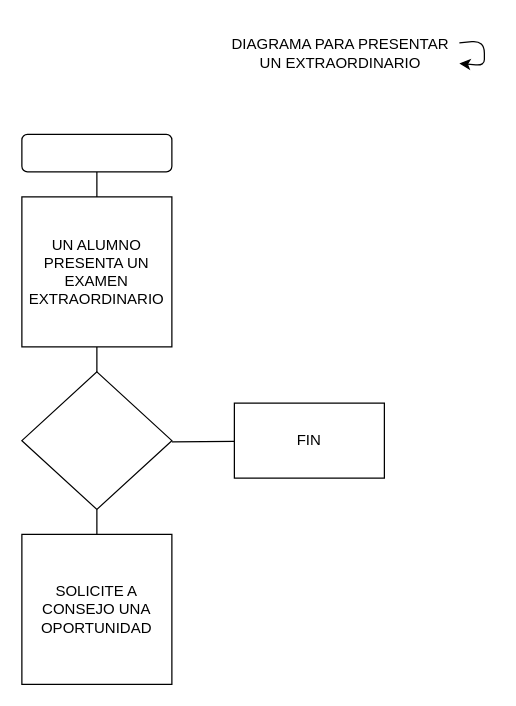
The diagram is 516 pixels wide and 706 high, and some of its shapes have lost their labels. The shapes that lost their labels are listed below. From the top down, each one's box as (x1, y1, x2, y2) in pixels, then its label:
(21, 133, 172, 172): INICIO
(21, 371, 172, 509): Califiacion mayor a 70
